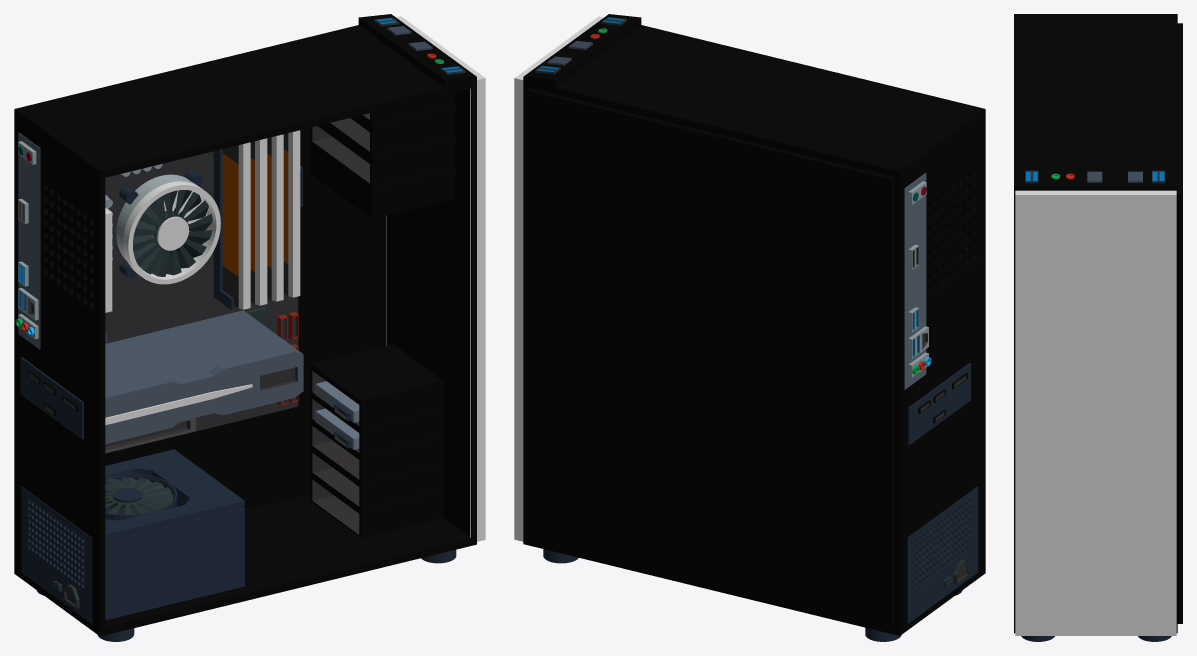
Rendered from PC Gamer Low Poly.fbx.
The picture shows the model from 3 angles, left to right: view 1: azimuth 30°, elevation 25°; view 2: azimuth 150°, elevation 25°; view 3: azimuth 270°, elevation 25°; orthographic projection. The views are drawn at different scales.
Visible parts, largest first — view 1: Cube.145, Cube.126, Cube.149, Cube.137, Cube.125, Cube.078, Cube.147, Plane.005, Gear.018, Cylinder.057, Cube.146, Cube.108 (+20 smaller); view 2: Cube.145, Cube.147, Plane.005, Cube.146, Cube.149, Cube.142, Plane.009, Plane.008; view 3: Cube.147, Cube.145.
Part boxes in pixels (<box>): Cube.145: <box>14,14,476,636</box>; Cube.126: <box>310,344,443,537</box>; Cube.149: <box>21,449,244,623</box>; Cube.137: <box>105,310,303,443</box>; Cube.125: <box>310,92,455,218</box>; Cube.078: <box>105,151,298,453</box>; Cube.147: <box>386,16,485,541</box>; Plane.005: <box>42,181,93,311</box>; Gear.018: <box>133,190,212,276</box>; Cylinder.057: <box>123,181,220,284</box>; Cube.146: <box>18,132,40,349</box>; Cube.108: <box>222,145,238,307</box>; Cube.145: <box>523,14,985,635</box>; Cube.147: <box>514,16,603,541</box>; Plane.005: <box>926,165,978,296</box>; Cube.146: <box>904,173,926,389</box>; Cube.149: <box>907,486,978,623</box>; Cube.142: <box>908,363,970,445</box>; Plane.009: <box>943,497,971,569</box>; Plane.008: <box>914,518,942,590</box>; Cube.147: <box>1015,190,1176,635</box>; Cube.145: <box>1014,14,1182,633</box>.
Bounding box in the file's own units: 855 × 1012 × 333.
4 materials, 1 textured.
